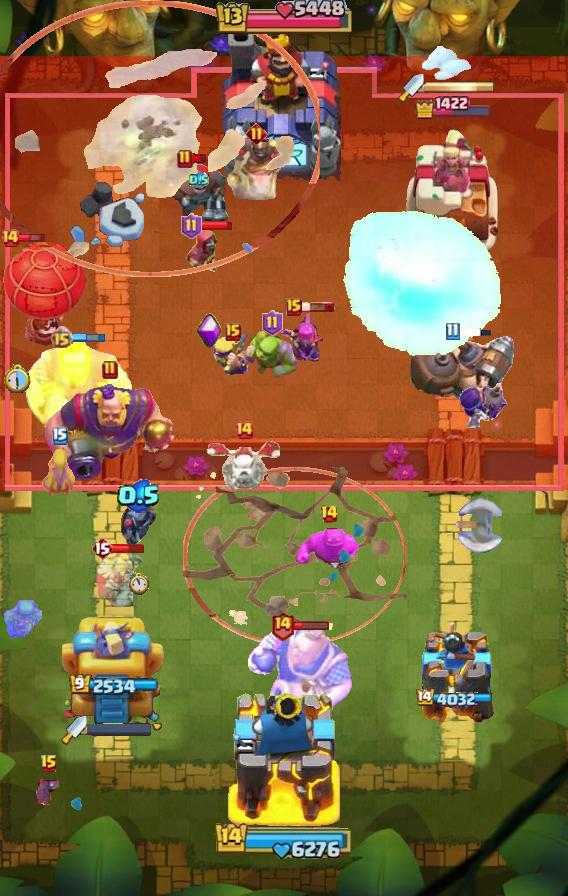arrows: (210, 334, 256, 377)
bar: (403, 124, 503, 256), (62, 611, 166, 731)
barbarian-barrel: (35, 771, 63, 805)
battle-ram: (118, 503, 160, 547)
bowler: (185, 227, 221, 275)
cannon-cart: (0, 237, 90, 347)
clock: (214, 820, 354, 860), (213, 0, 355, 38)
electro-spirit: (117, 479, 161, 513), (189, 171, 209, 189)
elixir: (4, 363, 32, 393), (129, 573, 149, 596)
emote: (11, 231, 46, 245), (299, 301, 335, 313), (457, 326, 493, 338), (294, 621, 331, 632), (71, 332, 106, 343), (199, 220, 233, 231), (111, 542, 145, 553), (192, 152, 209, 163)
evolution-symbol: (277, 310, 331, 368)
flying-machine: (242, 326, 302, 382)
freeze: (225, 135, 287, 203)
giant-skeleton: (248, 621, 355, 723), (23, 339, 133, 433)
giant-snowball: (0, 600, 42, 640)
goblin-ball: (457, 381, 509, 435)
guard: (183, 467, 407, 646)
king-tower: (219, 21, 349, 181), (226, 688, 342, 826)
king-tower-bar: (424, 80, 496, 94), (87, 723, 151, 736)
lightning: (41, 384, 179, 480)
mega-knight: (340, 210, 506, 360)
mini-pekka: (203, 439, 285, 493)
mortar-evolution: (91, 545, 145, 607)
phoenix-small: (166, 162, 232, 224)
queen-tower: (411, 619, 495, 731)
royal-ghost: (0, 1, 320, 277)
royal-giant: (449, 497, 505, 555)
selected: (69, 674, 159, 698), (414, 96, 494, 121), (414, 689, 492, 709)
skeleton-king-skill: (196, 313, 222, 349)
text: (270, 611, 295, 642), (51, 326, 74, 350), (181, 213, 202, 239), (261, 310, 282, 336), (91, 536, 113, 560), (245, 124, 266, 145), (0, 228, 20, 248), (234, 420, 254, 440), (320, 504, 340, 524), (40, 754, 58, 774), (177, 149, 193, 169), (102, 360, 118, 380), (286, 298, 302, 316), (225, 323, 241, 341), (52, 427, 68, 445), (445, 323, 460, 342)
tornado: (294, 520, 364, 578)
wizard: (406, 333, 518, 403)
zap: (40, 447, 80, 499)
